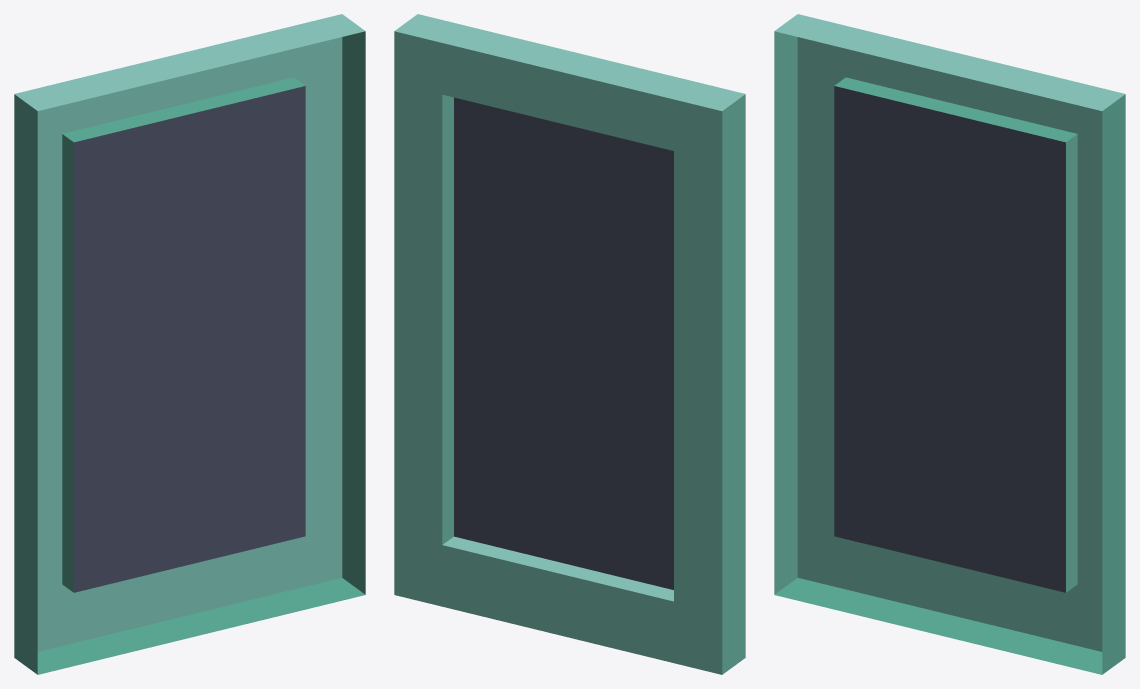
The model's file is squidgame_props_platform_decoration3_blue.fbx.
The picture shows the model from 3 angles, left to right: view 1: azimuth 30°, elevation 25°; view 2: azimuth 150°, elevation 25°; view 3: azimuth 330°, elevation 25°; orthographic projection.
Parts seen in each view (by area): view 1: squidgame_props_platform_decoration3_blue; view 2: squidgame_props_platform_decoration3_blue; view 3: squidgame_props_platform_decoration3_blue.
Part boxes in pixels (x1,y1,x2,y2): squidgame_props_platform_decoration3_blue: (14,14,365,674); squidgame_props_platform_decoration3_blue: (394,14,745,674); squidgame_props_platform_decoration3_blue: (774,14,1125,674).
Bounding box in the file's own units: 0.8875 × 1.46 × 0.1104.
